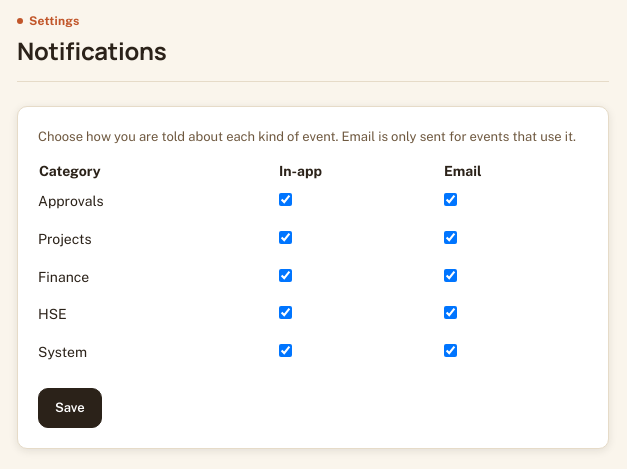
Test: NotificationPreferencesPage › saves toggled values
Click the checkbox named "Finance email".
click(450, 275)  # box [444,269,457,282]
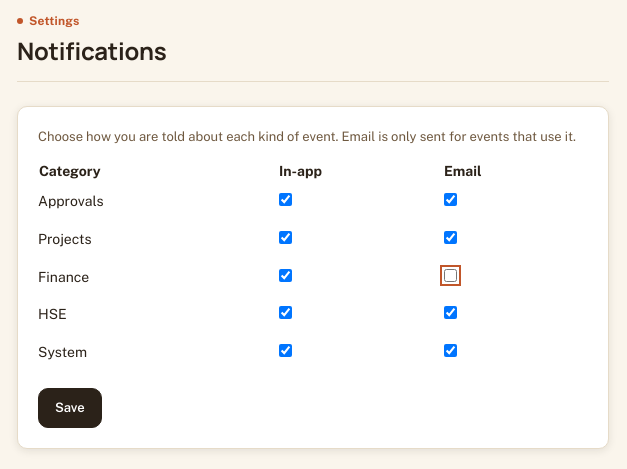
Click the button "Save".
click(70, 408)  # box [38,388,102,428]
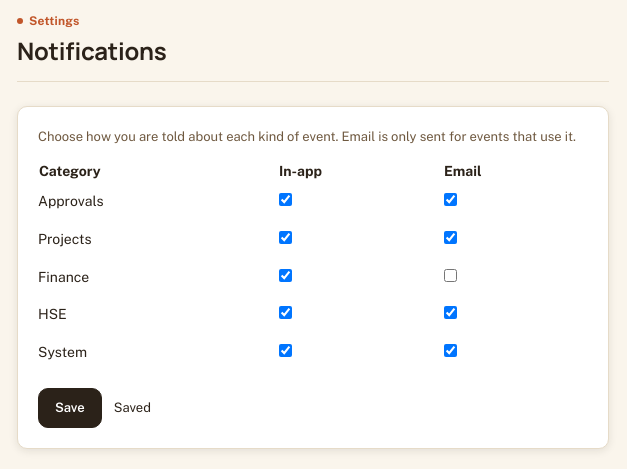
Expected: the text "Saved" is shown, [114,398,151,418]
